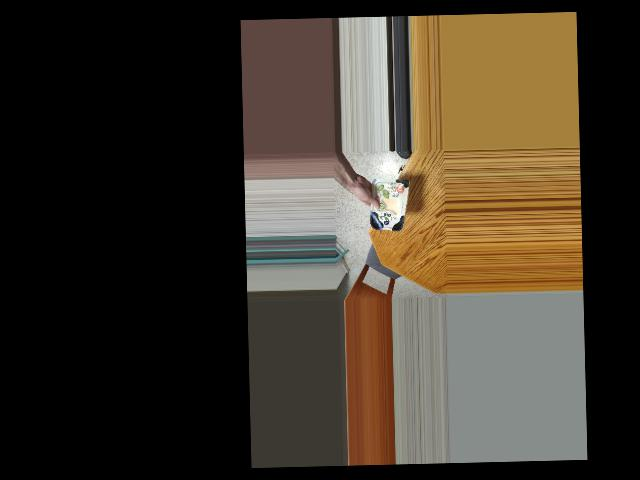cheese: (369, 182, 407, 229)
